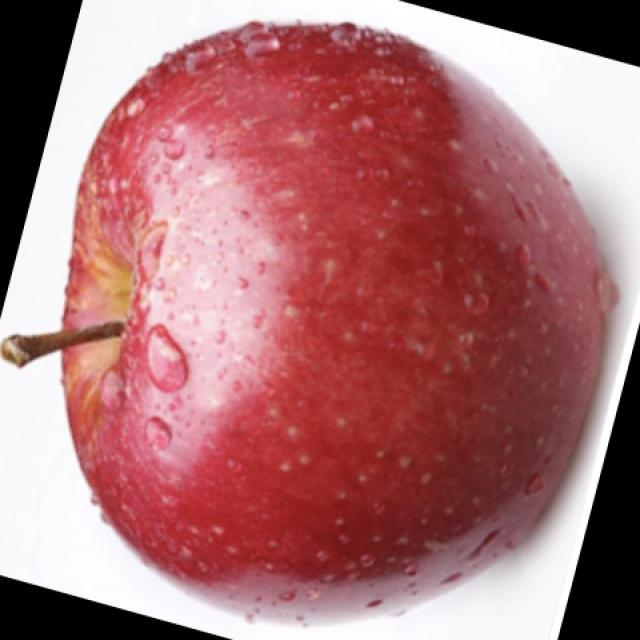Fresh Apple: (88, 48, 640, 603)
